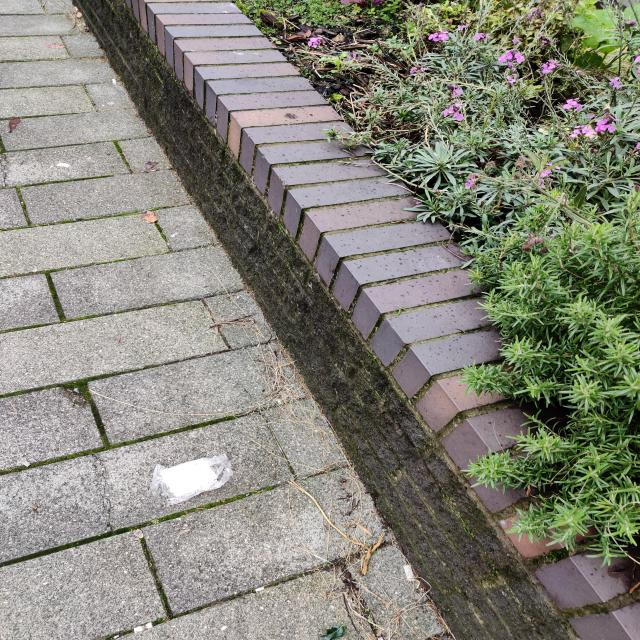litter: (144, 448, 239, 507)
